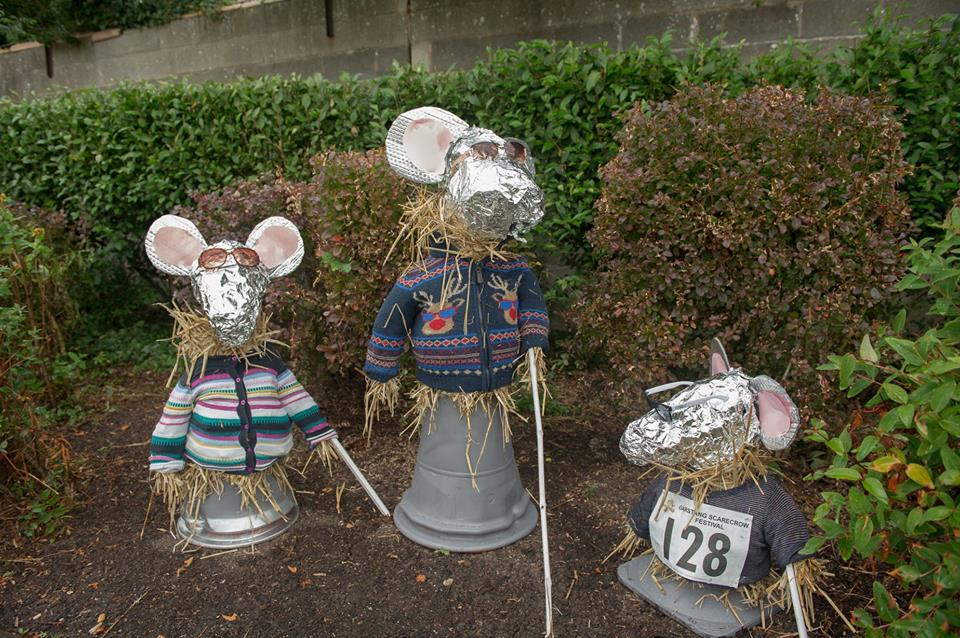person-like: (358, 102, 569, 556), (137, 211, 345, 550), (613, 333, 838, 638)
